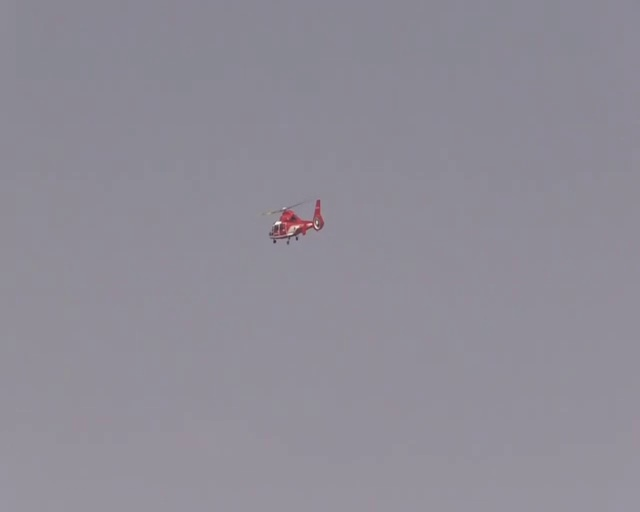HELICOPTER: (262, 198, 324, 245)
